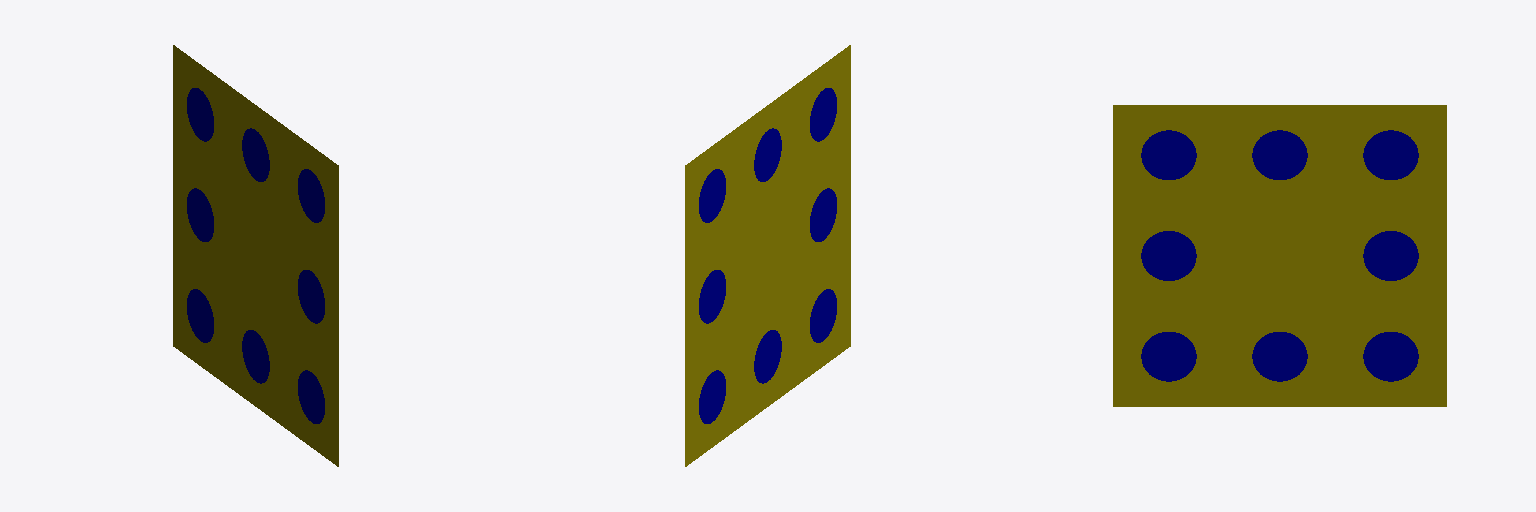
Rendered from reroutePowerBoard.obj.
The picture shows the model from 3 angles: view 1: azimuth 30°, elevation 25°; view 2: azimuth 150°, elevation 25°; view 3: azimuth 270°, elevation 25°; orthographic projection.
Parts seen in each view (by area): view 1: Plane, Plane.002, Plane.001; view 2: Plane, Plane.002, Plane.001; view 3: Plane, Plane.002, Plane.001.
Boxes of the visible parts, <box> form: Plane: <box>173,45,338,466</box>; Plane.002: <box>187,88,324,423</box>; Plane.001: <box>298,169,324,222</box>; Plane: <box>685,45,850,466</box>; Plane.002: <box>699,128,836,423</box>; Plane.001: <box>810,88,836,141</box>; Plane: <box>1113,105,1446,406</box>; Plane.002: <box>1141,130,1418,381</box>; Plane.001: <box>1141,130,1196,179</box>.
Size of the model in its own units: 0 by 0.9144 by 0.9144.